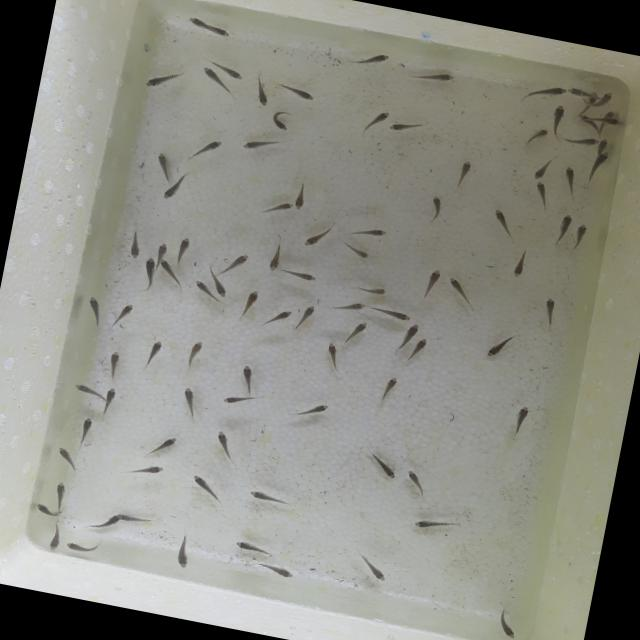fingerling: (410, 506, 468, 542), (184, 472, 235, 508), (352, 549, 397, 588), (243, 554, 301, 584), (481, 326, 524, 366), (142, 61, 187, 97), (206, 428, 246, 468), (300, 214, 340, 254), (184, 132, 228, 168), (168, 528, 200, 575), (520, 76, 569, 106), (119, 457, 166, 488), (244, 484, 296, 512), (442, 274, 480, 312), (362, 449, 405, 482), (62, 532, 109, 561), (288, 396, 334, 425), (485, 206, 522, 242), (409, 64, 460, 90), (414, 266, 447, 306), (173, 382, 207, 420), (345, 46, 391, 74), (386, 113, 432, 141), (399, 468, 434, 504), (504, 402, 535, 442), (229, 536, 280, 560), (138, 336, 170, 374), (276, 80, 322, 106), (491, 604, 524, 640), (141, 431, 178, 463), (555, 163, 585, 201), (248, 73, 278, 111), (238, 132, 280, 159), (253, 195, 295, 222), (100, 347, 129, 385), (586, 149, 612, 191), (372, 372, 403, 407), (108, 299, 138, 335), (508, 241, 534, 282), (422, 191, 450, 229), (219, 249, 253, 280), (83, 507, 122, 534), (235, 286, 262, 325), (316, 338, 346, 373), (366, 304, 416, 325), (119, 226, 148, 262), (450, 158, 478, 195), (219, 389, 263, 412), (292, 301, 320, 337), (550, 210, 576, 248), (264, 236, 288, 277), (70, 413, 98, 448), (180, 336, 207, 372), (530, 151, 559, 184), (537, 296, 563, 332), (351, 221, 390, 245), (566, 219, 592, 255), (82, 294, 108, 330), (233, 363, 262, 395), (528, 180, 556, 213), (150, 151, 177, 185), (337, 240, 375, 264), (70, 381, 108, 404), (263, 304, 294, 332), (54, 445, 83, 474), (173, 235, 196, 271), (560, 130, 601, 150), (329, 296, 368, 317), (353, 280, 393, 300), (548, 104, 570, 140), (269, 108, 298, 135), (279, 266, 320, 285), (344, 318, 369, 347), (46, 520, 66, 556), (522, 125, 550, 150), (52, 478, 70, 509), (158, 182, 182, 205), (198, 65, 225, 85), (293, 182, 310, 212), (224, 66, 248, 86), (32, 502, 58, 520), (588, 115, 624, 128), (213, 278, 233, 300), (402, 322, 422, 343), (371, 108, 392, 128), (565, 85, 590, 100), (412, 336, 431, 354), (154, 242, 172, 260), (158, 259, 176, 277), (192, 278, 212, 294), (187, 15, 207, 30), (104, 386, 120, 404), (600, 88, 616, 106), (142, 256, 157, 274), (598, 138, 614, 153), (214, 27, 234, 39), (600, 109, 616, 120), (577, 114, 592, 125)
